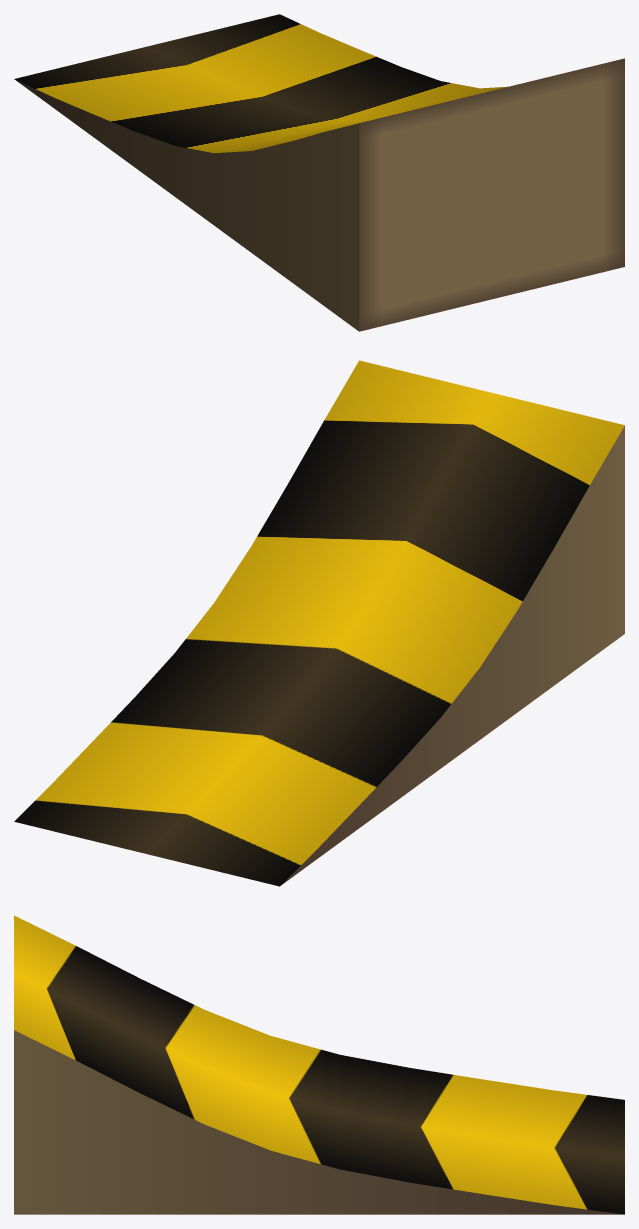
The model's file is rampa_LOD.fbx.
3 views of the same model, one above another, from view 1: azimuth 30°, elevation 25°; view 2: azimuth 150°, elevation 25°; view 3: azimuth 270°, elevation 25° (orthographic). The views are drawn at different scales.
Parts seen in each view (by area): view 1: rampa; view 2: rampa; view 3: rampa.
Boxes of the visible parts, x1=… form: rampa: x1=14, y1=14, x2=624, y2=331; rampa: x1=14, y1=360, x2=624, y2=886; rampa: x1=14, y1=915, x2=624, y2=1214.
Size of what is drawn, in the model's own units: 4 by 3 by 9.
